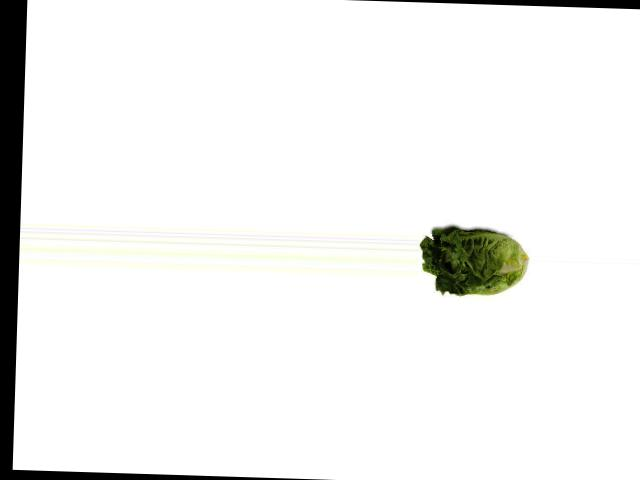lettuce: (421, 221, 529, 304)
